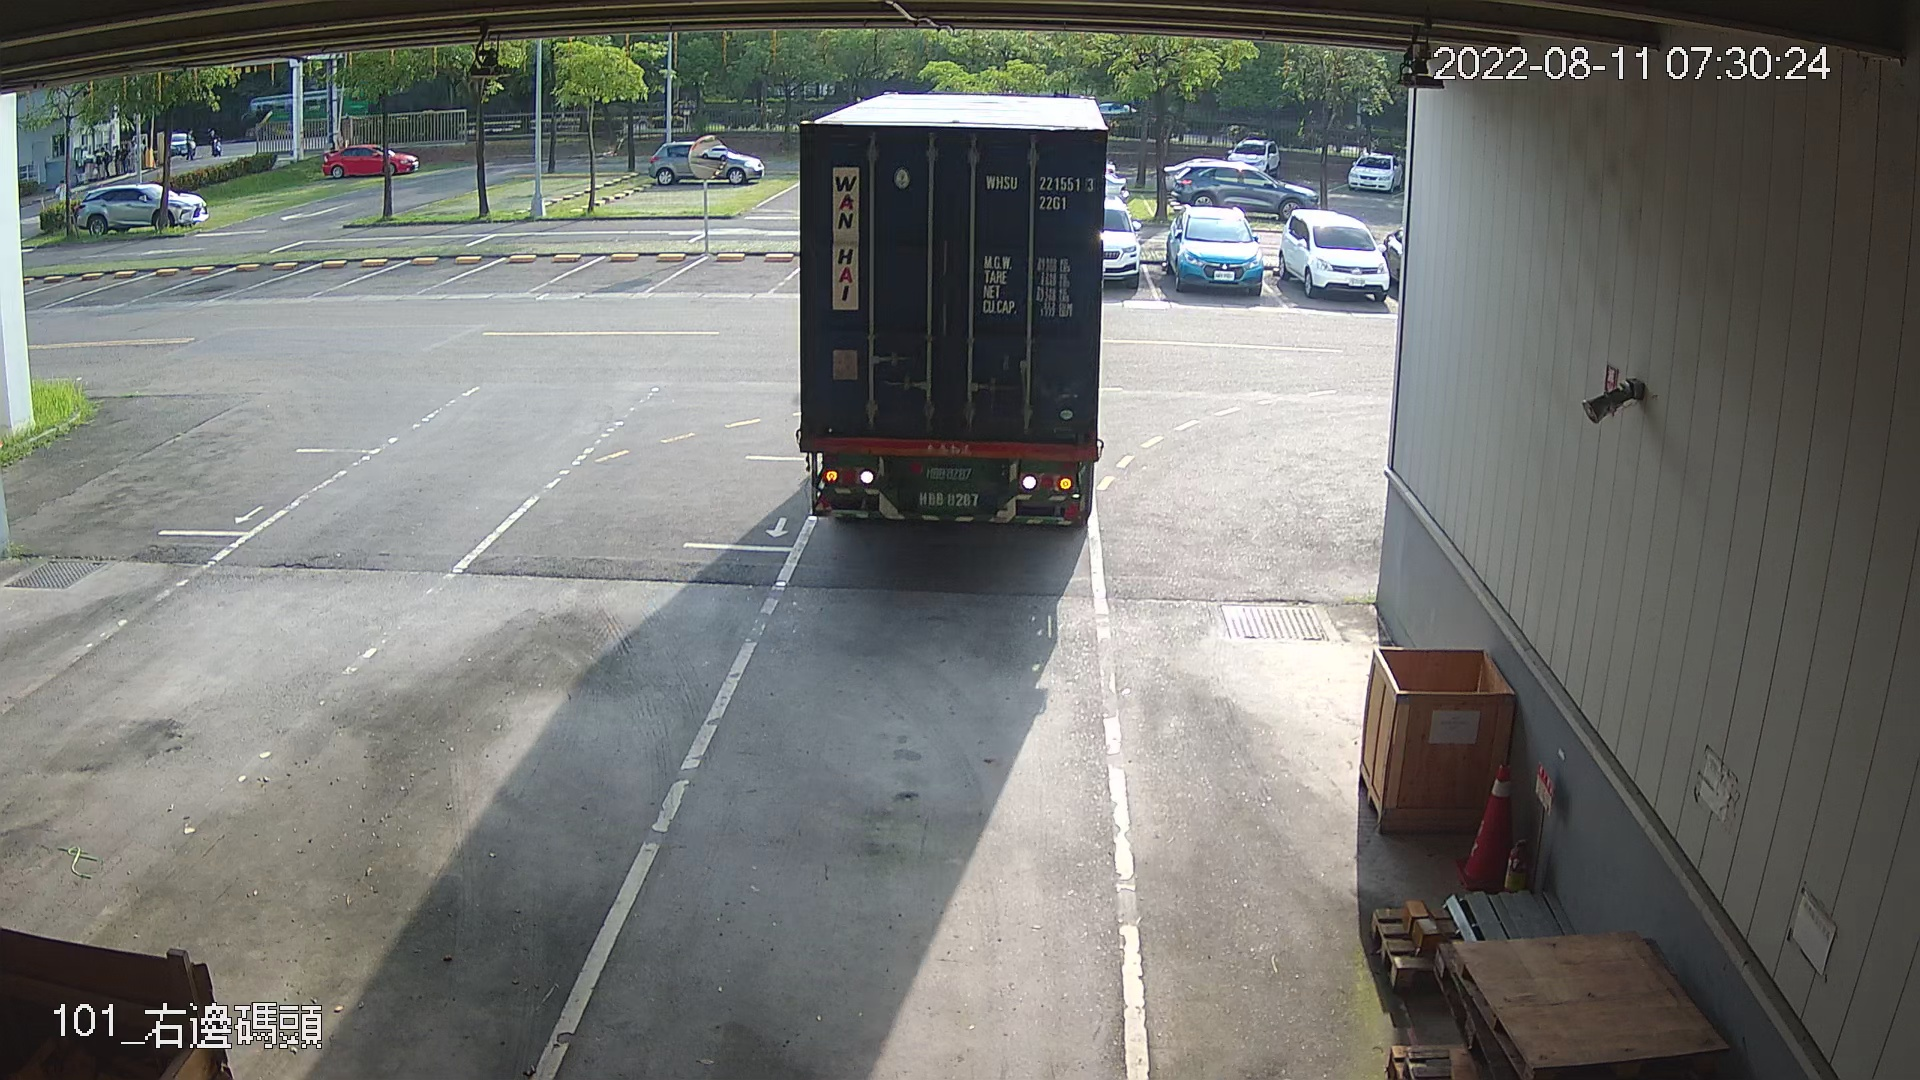container: (978, 167, 1098, 218)
